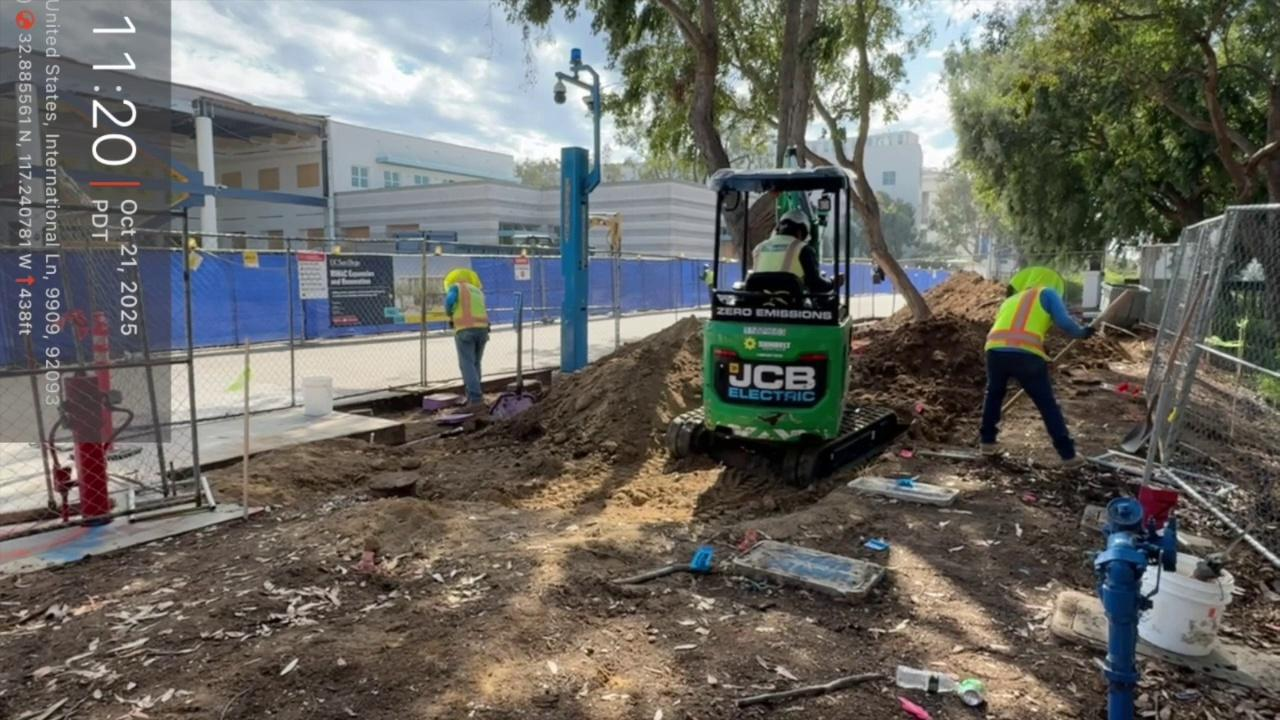Exacavator: (662, 154, 900, 487)
